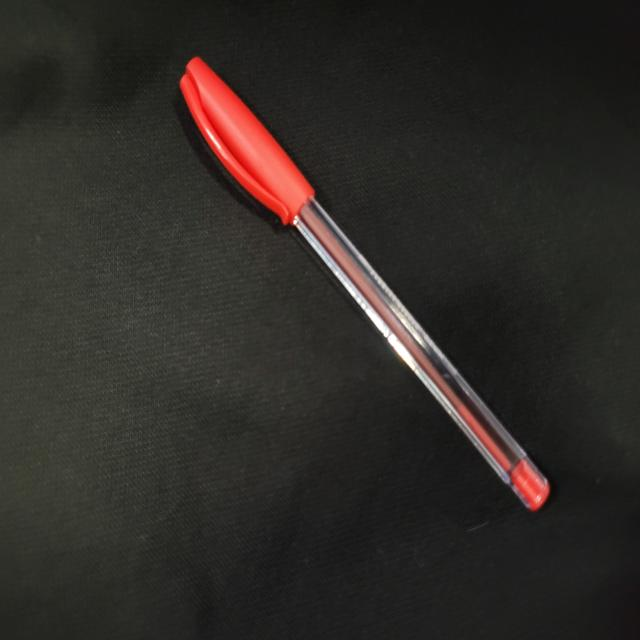caneta: (175, 45, 558, 513)
